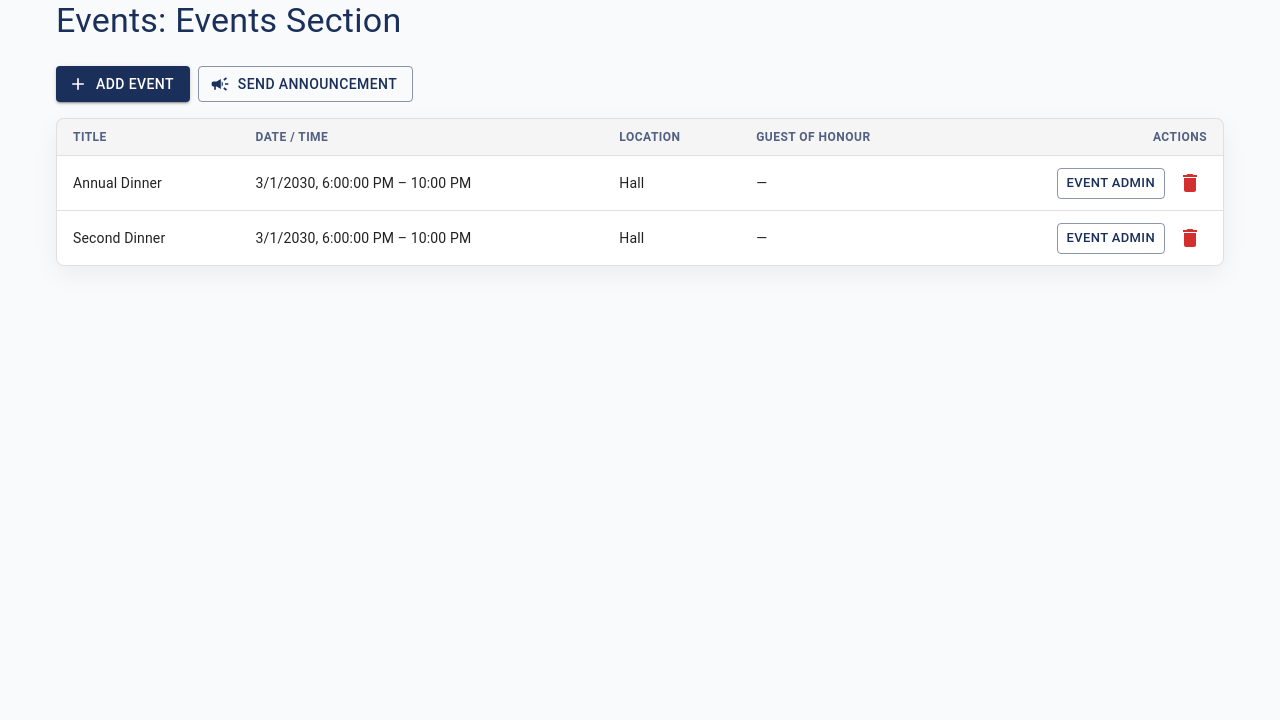
it: SectionEventsManager › names the event and cancels without a mutation or native prompt
Click the button named "Delete Annual Dinner".
click(1190, 184)  # box [1173,166,1207,200]
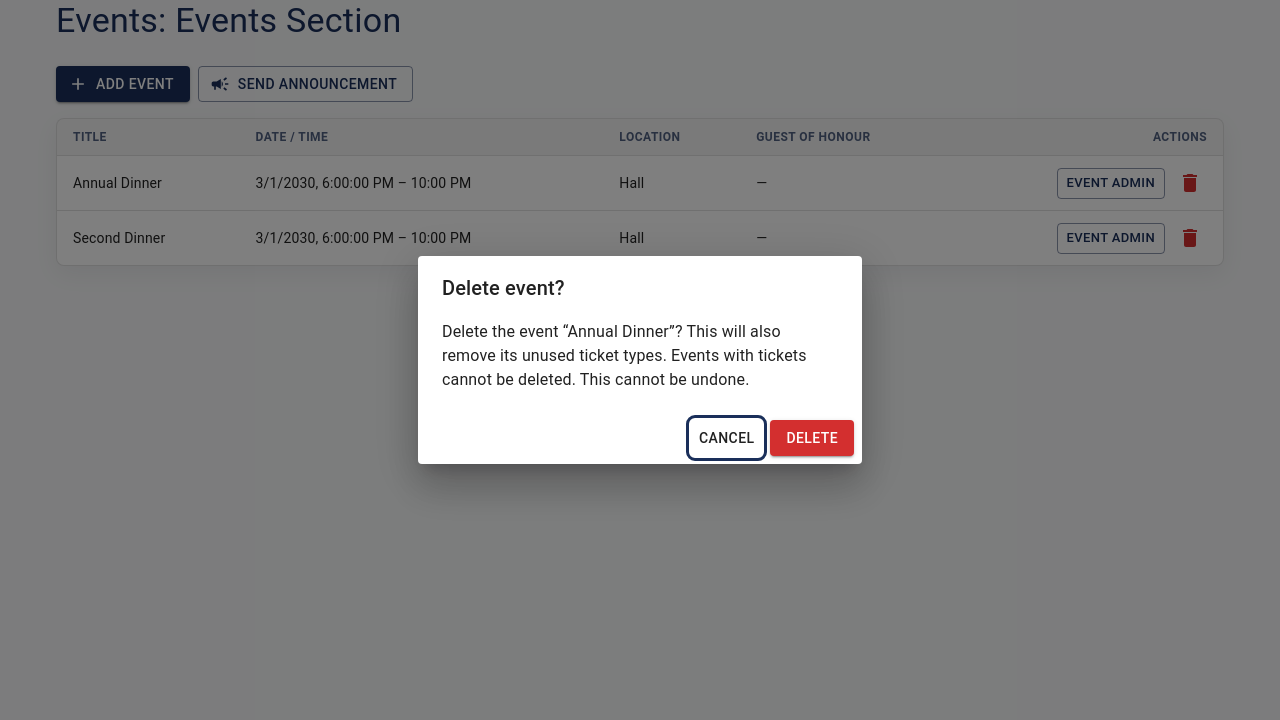
Now the dialog "Delete event?" shows "Annual Dinner", box [442,322,807,389]
Now the dialog "Delete event?" shows "This cannot be undone.", box [442,322,807,389]
Now the dialog "Delete event?" shows "remove its unused ticket types", box [442,322,807,389]
Click the button "Cancel".
click(727, 438)  # box [691,420,762,456]
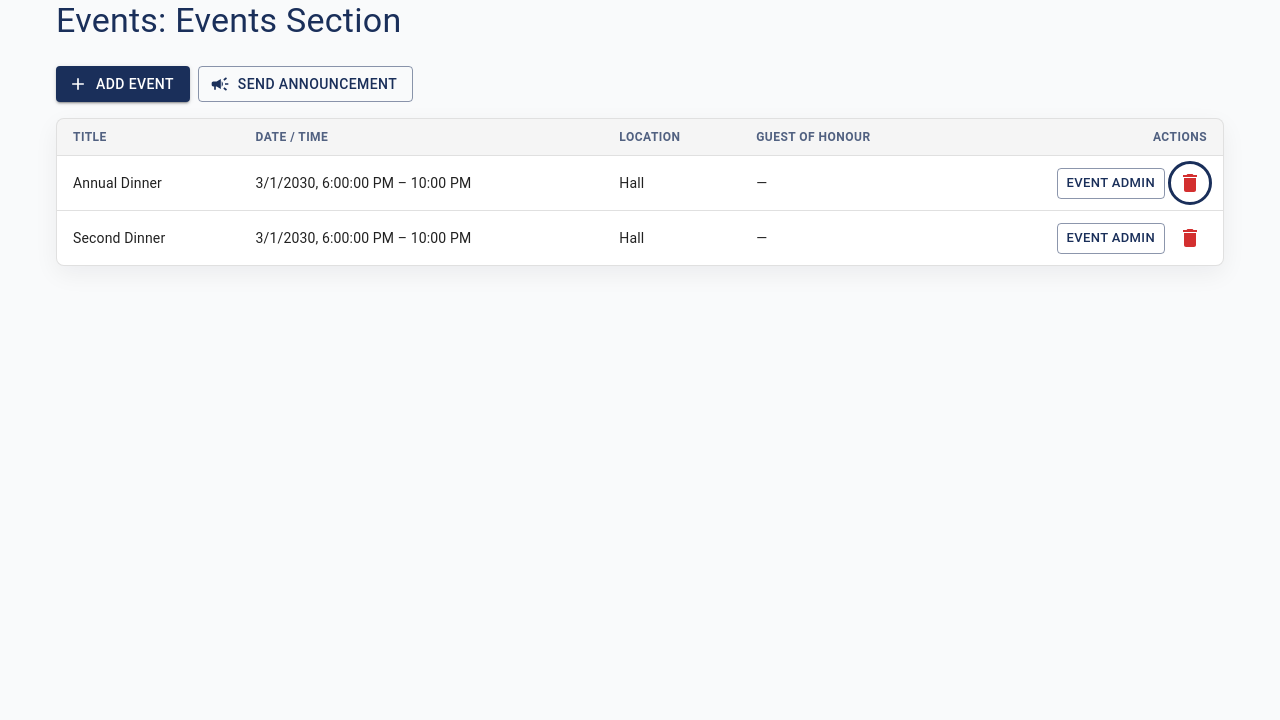
Now the dialog is gone
